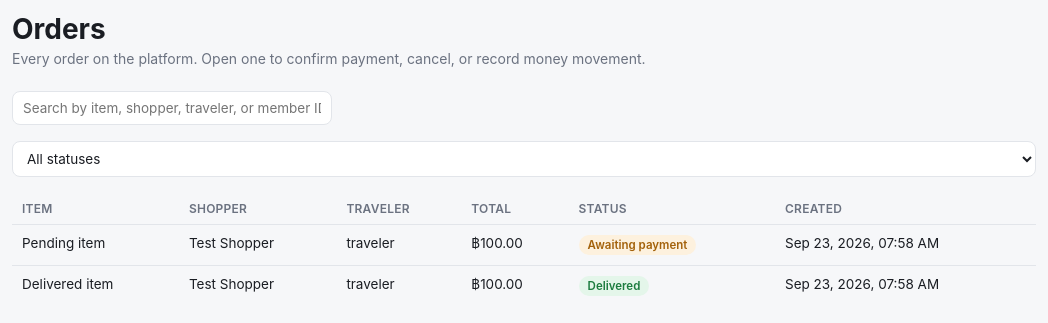
OrdersListPage › filters by status
Expected: the text "Pending item" is shown, left=12, top=224, right=179, bottom=266
Expected: the text "Delivered item" is shown, left=12, top=266, right=179, bottom=306
Select "Delivered" in the dropdown showing "All statuses": [524, 159] box left=12, top=141, right=1036, bottom=177
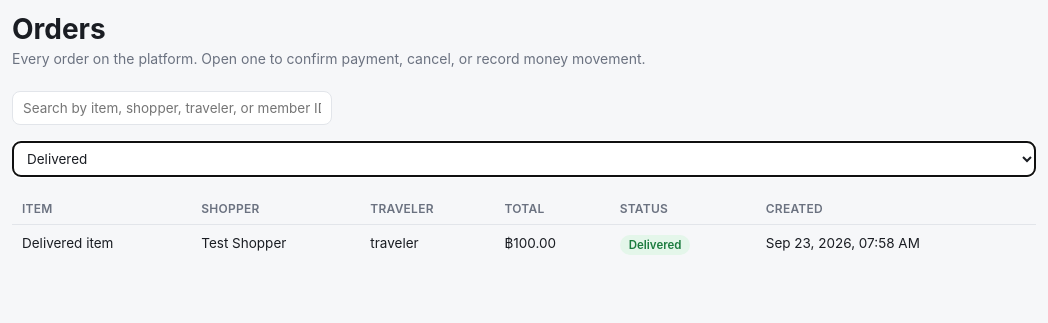
Expected: the text "Delivered item" is shown, left=12, top=224, right=191, bottom=265
Now the text "Pending item" is gone
